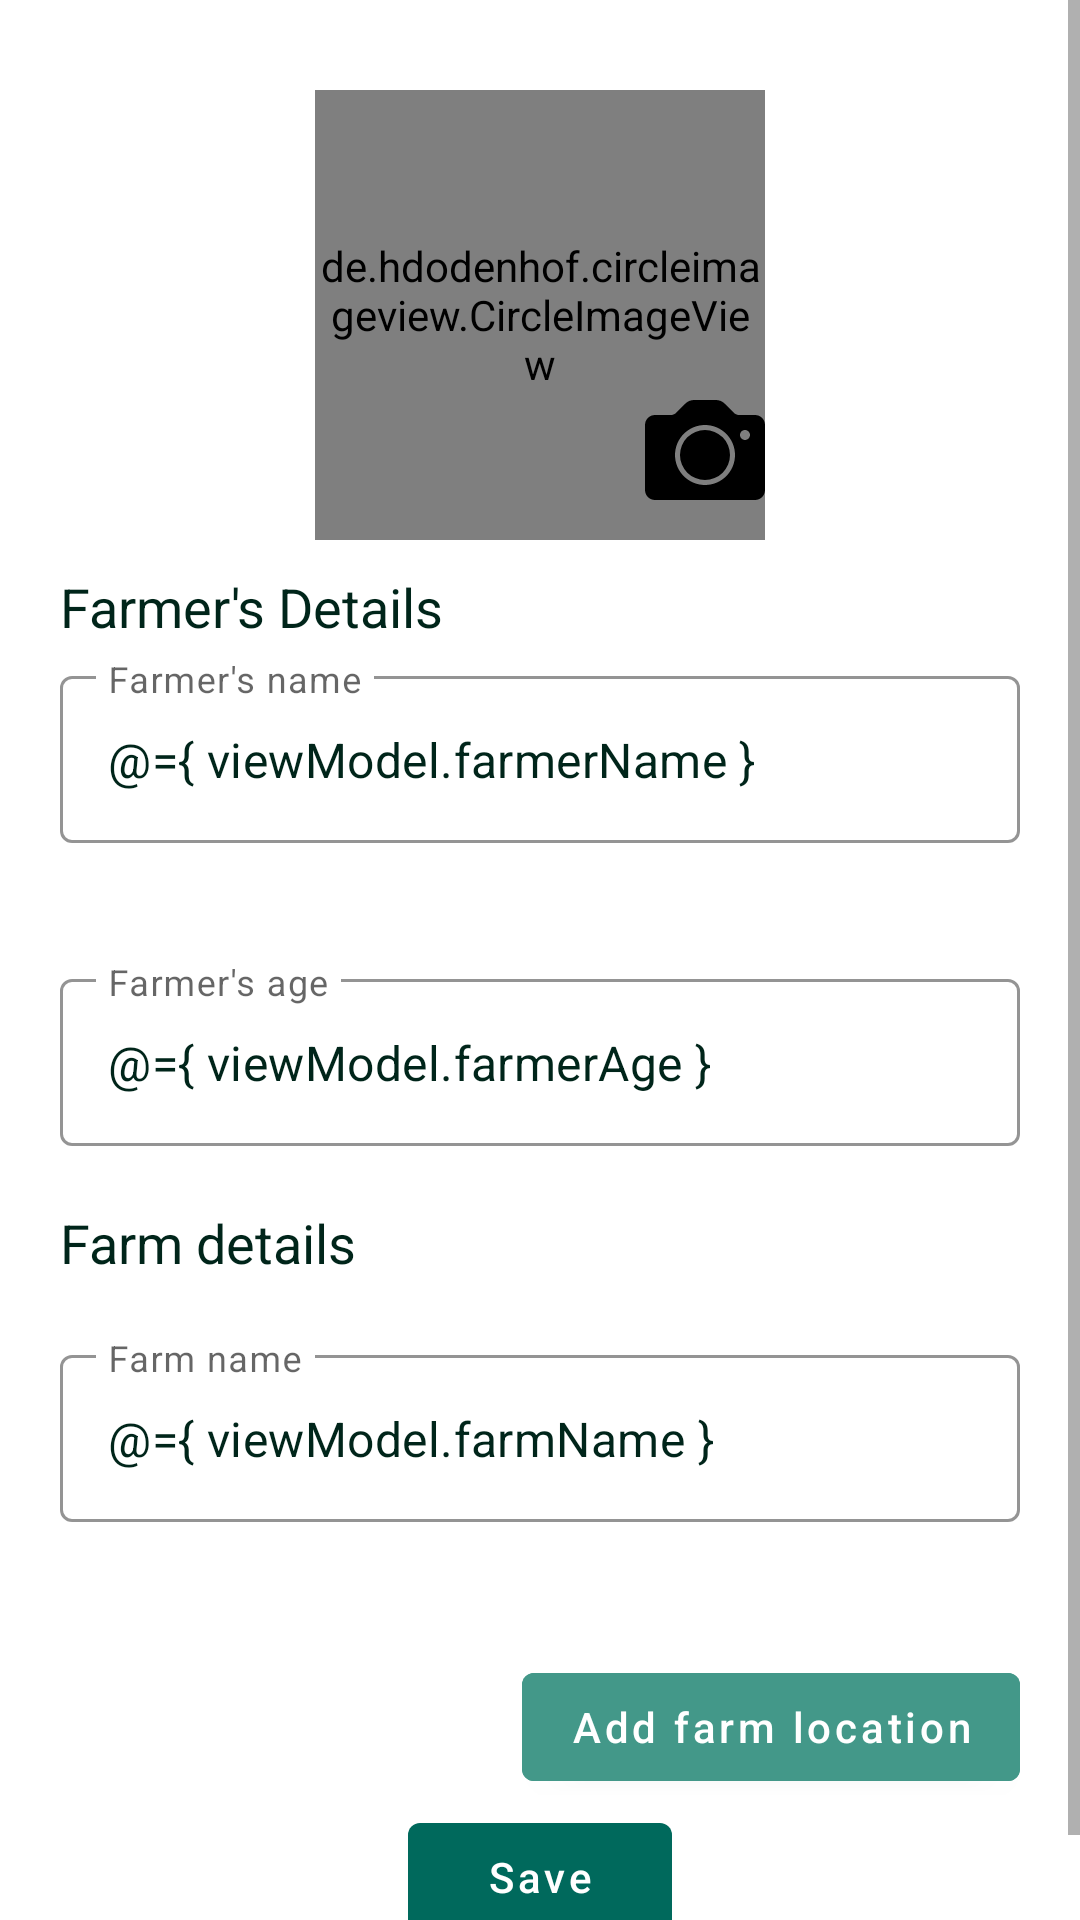

Screen size 1080px×1920px. Icon name, then its center in pixels as (x,y):
camera: (705,450)
